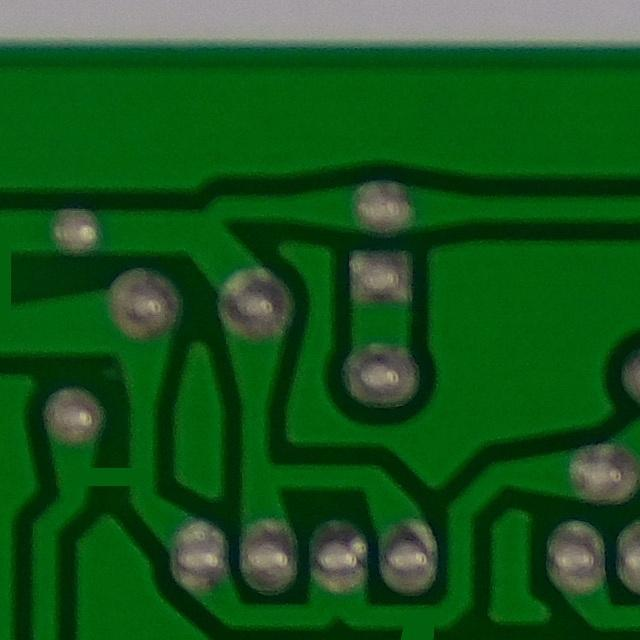short: (54, 412, 157, 529), (364, 593, 462, 640)
